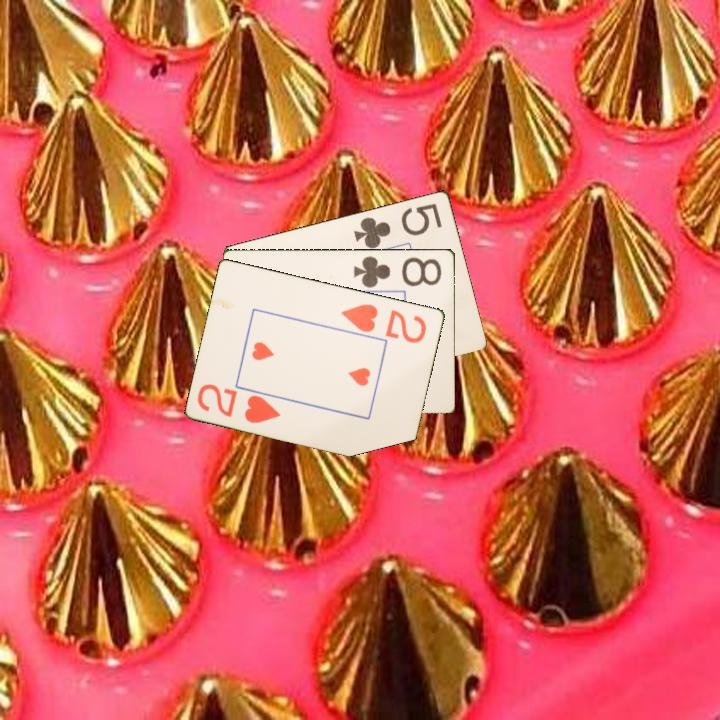2h: (338, 300, 430, 346), (194, 380, 284, 426)
5c: (350, 199, 445, 251)
8c: (351, 252, 444, 290)
